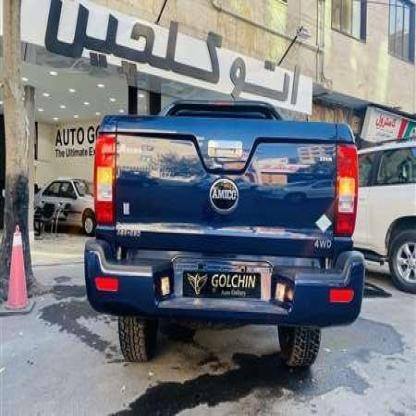Car: (91, 94, 363, 384), (347, 127, 416, 295), (23, 162, 107, 247)
